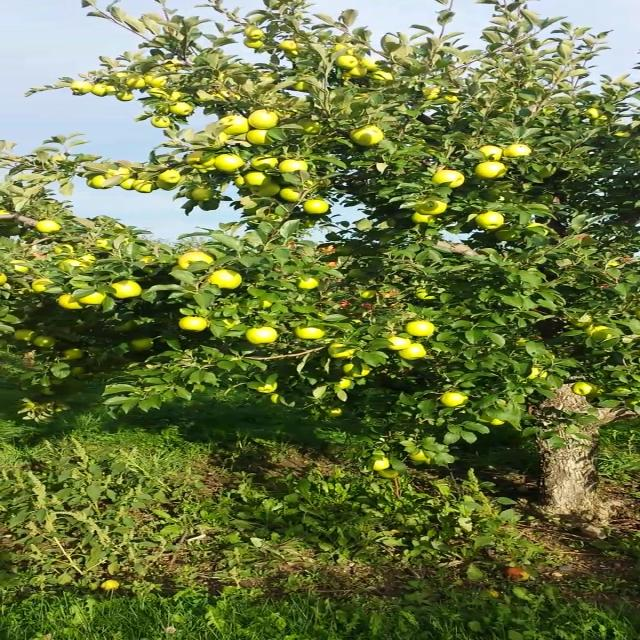apple: (351, 124, 382, 146), (177, 252, 213, 268), (208, 271, 240, 289), (219, 116, 249, 135), (431, 170, 463, 187), (110, 280, 140, 298), (212, 153, 242, 171), (249, 110, 277, 128), (184, 151, 214, 167), (246, 327, 275, 343), (476, 162, 505, 178), (102, 167, 135, 181), (204, 132, 228, 150), (294, 324, 324, 338), (251, 155, 277, 171), (180, 316, 206, 332), (420, 198, 446, 214), (398, 343, 424, 359), (78, 290, 107, 304), (245, 130, 274, 144), (477, 212, 502, 228), (279, 159, 307, 173), (406, 322, 433, 336), (585, 325, 612, 339), (298, 118, 321, 134), (126, 338, 152, 352), (251, 182, 277, 196), (570, 314, 596, 328), (59, 258, 89, 270), (440, 393, 467, 406), (505, 144, 530, 158), (523, 222, 549, 235), (58, 294, 82, 308), (478, 146, 502, 160), (244, 173, 268, 187), (330, 343, 354, 357), (332, 43, 357, 56), (344, 364, 368, 377), (158, 169, 180, 183), (212, 91, 242, 101), (441, 88, 461, 103), (36, 220, 60, 232), (572, 382, 596, 394), (33, 278, 53, 292), (388, 336, 408, 350), (78, 253, 98, 267), (422, 87, 441, 101), (281, 188, 300, 202), (70, 81, 92, 93), (13, 330, 35, 342), (335, 56, 357, 68), (414, 212, 436, 224), (527, 368, 549, 380), (114, 320, 136, 332), (144, 74, 165, 86), (133, 181, 154, 193), (297, 276, 318, 288), (170, 103, 190, 115), (305, 201, 325, 213), (494, 230, 518, 240), (96, 238, 116, 250), (53, 243, 74, 254), (372, 72, 394, 82), (92, 84, 110, 96), (10, 261, 28, 273), (244, 27, 262, 39), (195, 89, 213, 101), (33, 337, 54, 347), (303, 179, 318, 193), (192, 189, 212, 199), (126, 77, 144, 88), (90, 175, 105, 188), (244, 38, 263, 48), (345, 67, 364, 77), (195, 166, 218, 174), (146, 88, 164, 98), (150, 117, 168, 127), (120, 178, 135, 190), (258, 383, 276, 393), (234, 177, 250, 188), (374, 458, 390, 469), (137, 255, 156, 264), (158, 180, 175, 190), (64, 349, 82, 358), (223, 319, 239, 329), (410, 450, 426, 460), (362, 59, 378, 69), (70, 366, 86, 376), (339, 378, 353, 389), (379, 470, 398, 478), (261, 72, 280, 80), (327, 408, 342, 418), (292, 82, 310, 90), (279, 41, 296, 49), (417, 290, 434, 298), (585, 109, 600, 118), (116, 92, 132, 100), (164, 92, 178, 101), (9, 226, 21, 236), (43, 386, 55, 396), (518, 338, 532, 346), (22, 229, 38, 236), (614, 385, 632, 391), (115, 72, 132, 78), (606, 262, 622, 268), (172, 264, 188, 270), (164, 65, 178, 71), (106, 86, 120, 92), (491, 419, 504, 425), (0, 273, 6, 284), (363, 292, 374, 298), (25, 402, 36, 408), (272, 394, 279, 403), (2, 210, 12, 215), (263, 301, 271, 307), (424, 458, 430, 464)
